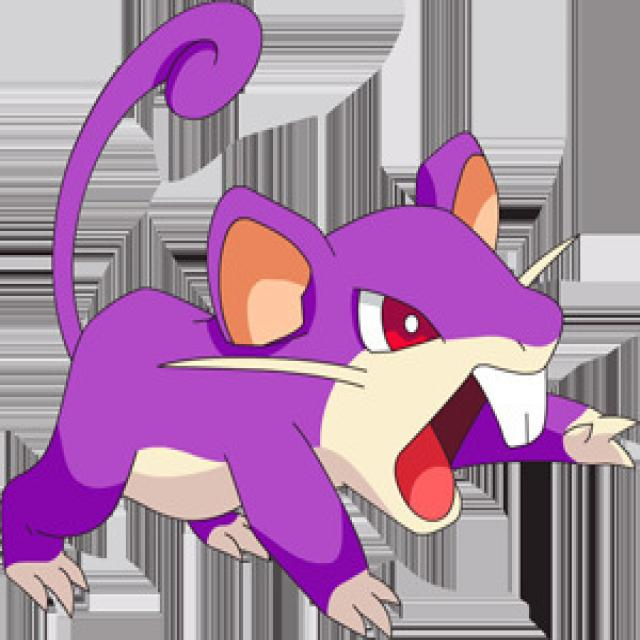Rattata: (29, 175, 633, 597)
